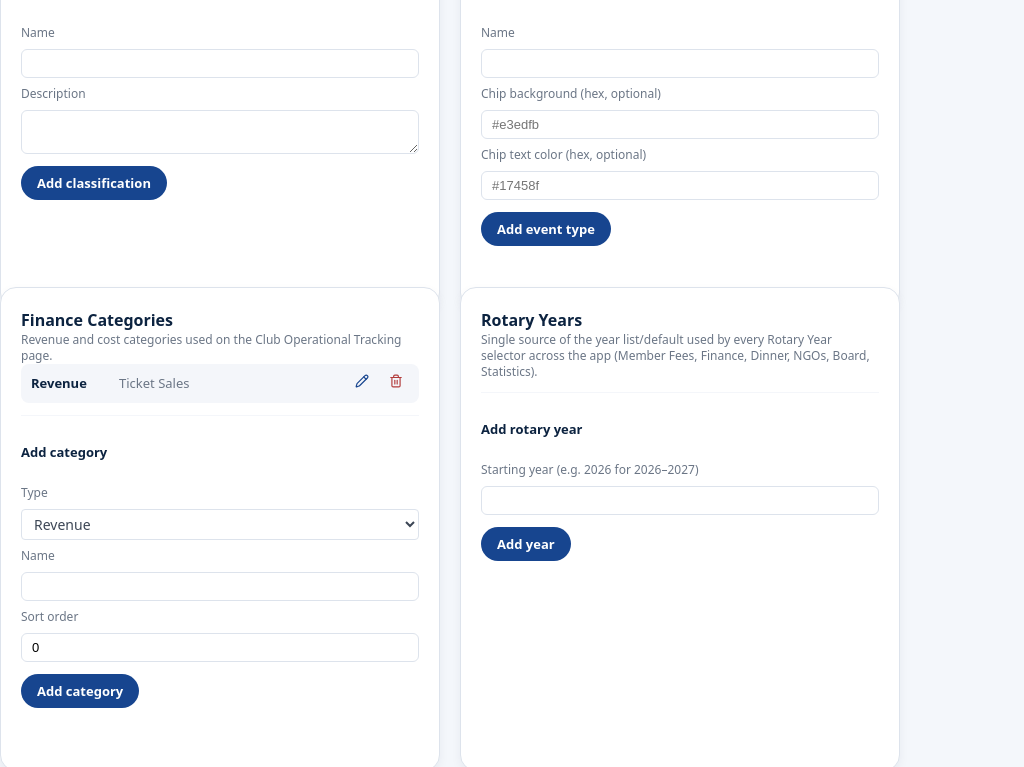
Scenario: ReferenceLists › Finance Categories card › deletes a category after confirmation
(page scrolled)
Click the button named "delete" at (396, 383), box [383,373,409,393]
(page scrolled)
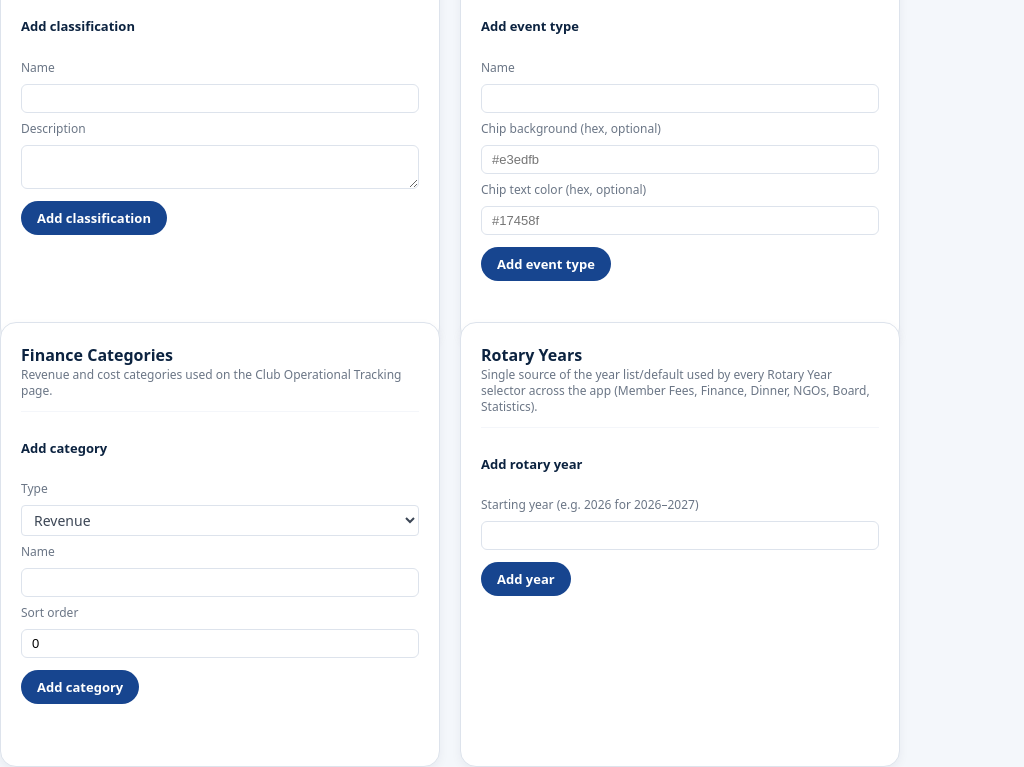
Now the text "Ticket Sales" is gone
